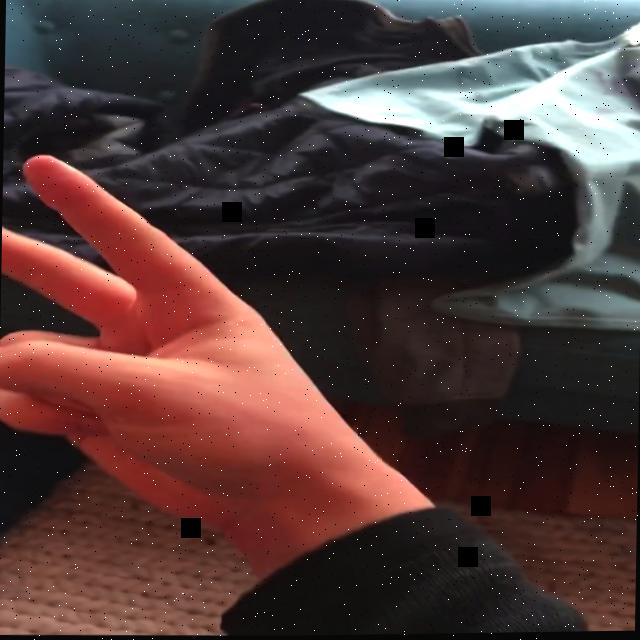Scissors: (0, 148, 368, 537)
